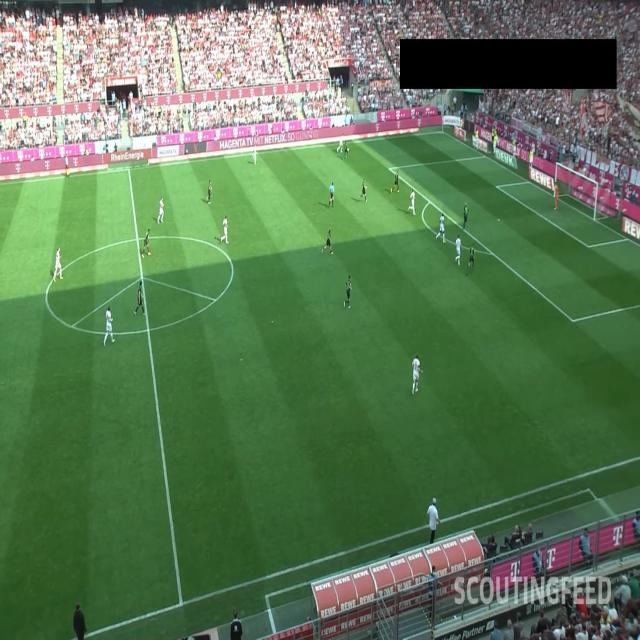ball: (347, 147, 349, 152)
